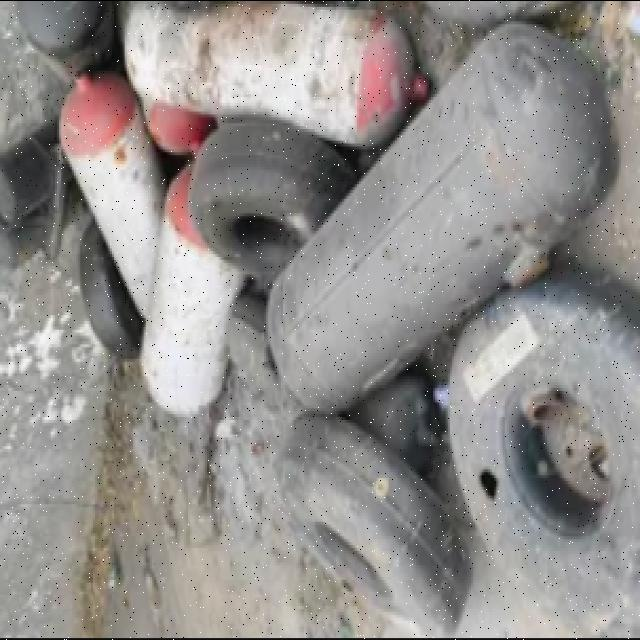cylinder: (124, 3, 433, 147), (59, 66, 167, 316)
